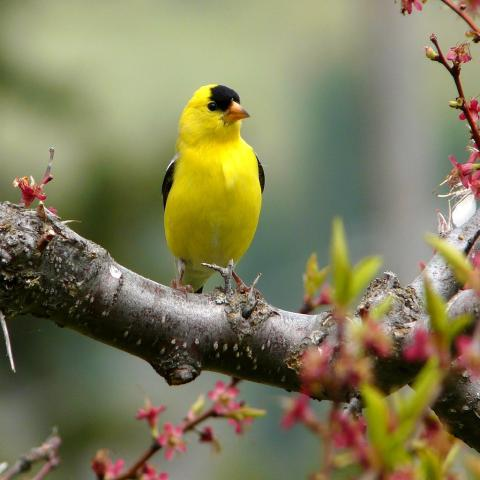bird: (158, 81, 268, 294)
